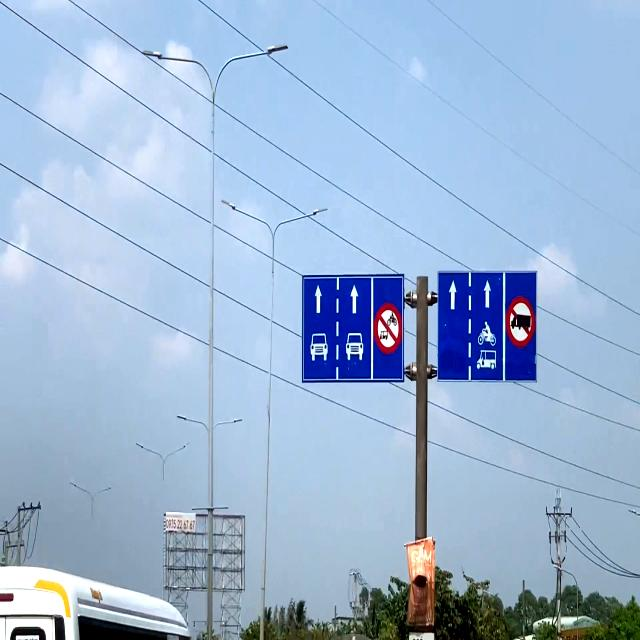P.106a: (505, 298, 537, 349)
